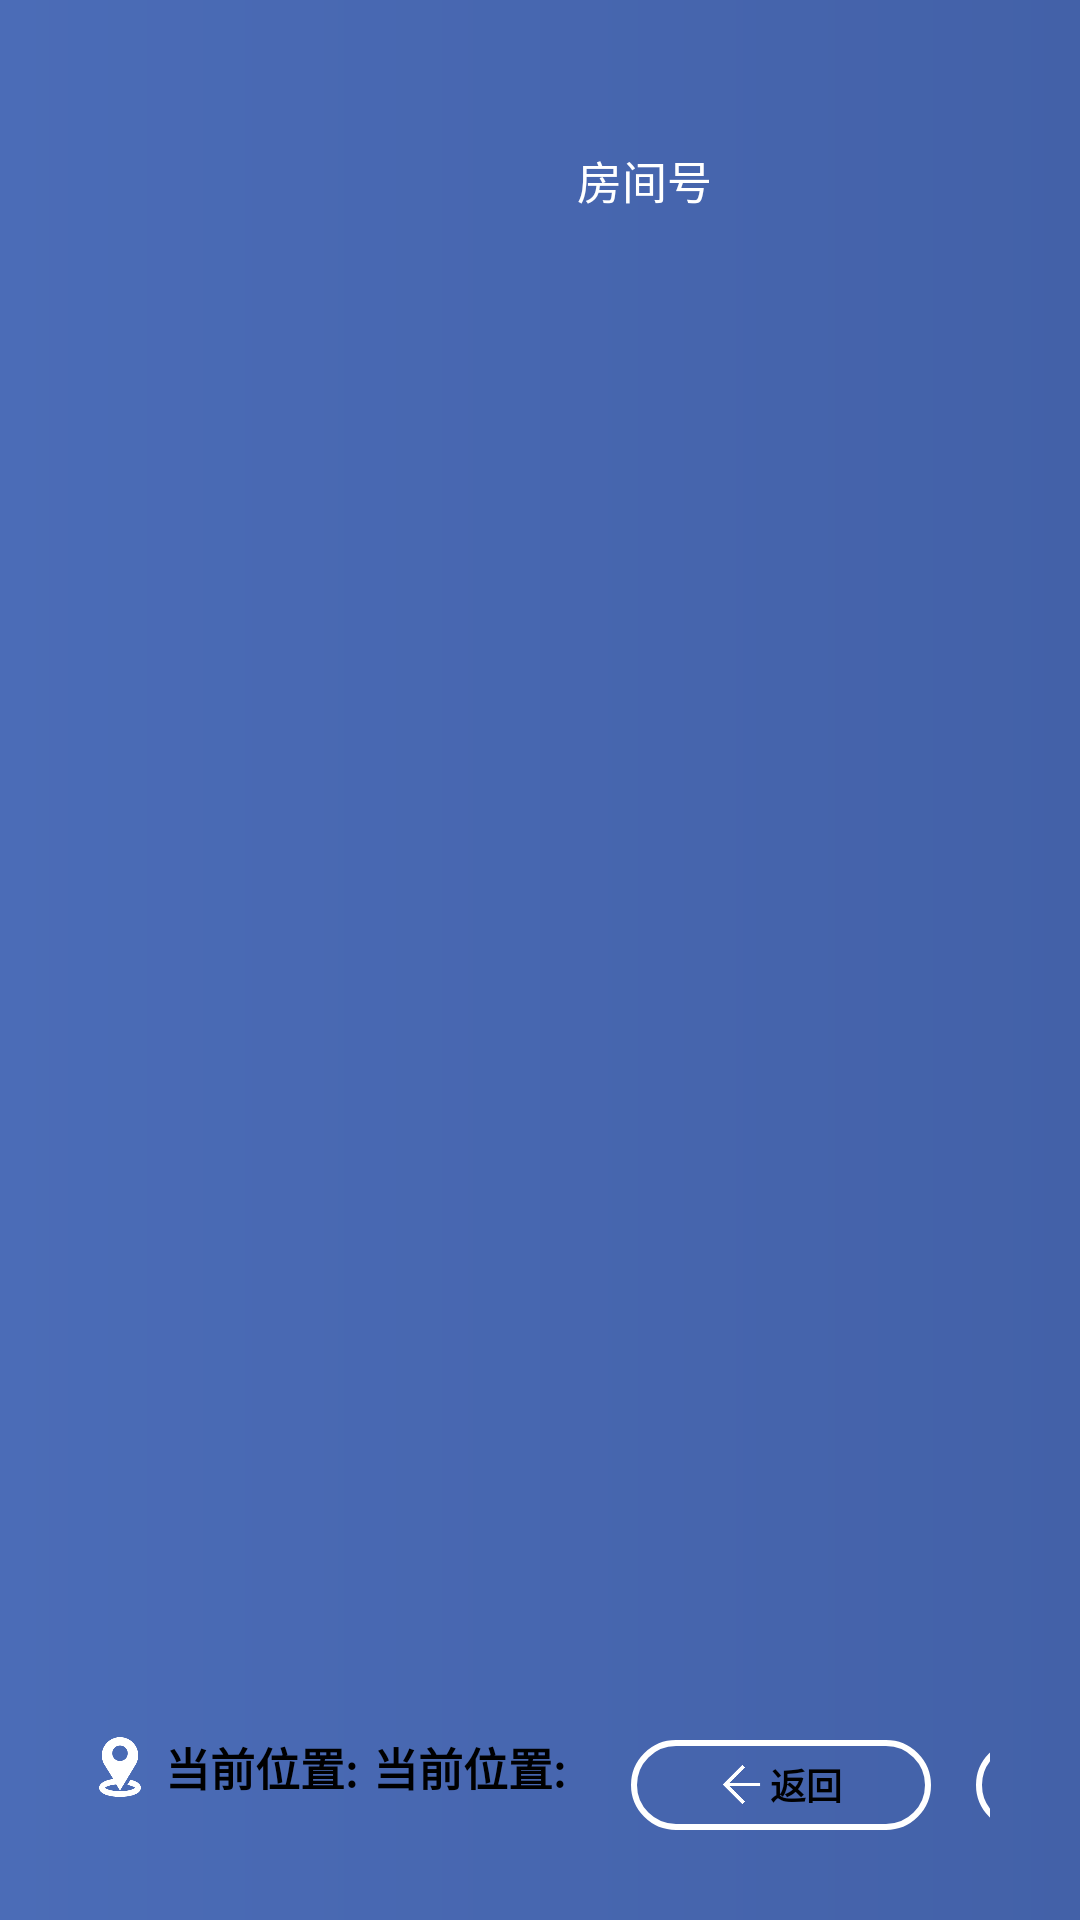

Locate icon controls on the screen. Image size 1080x1920, boxes as (x1, y1, x2, y2).
location: (99, 1737, 141, 1797)
